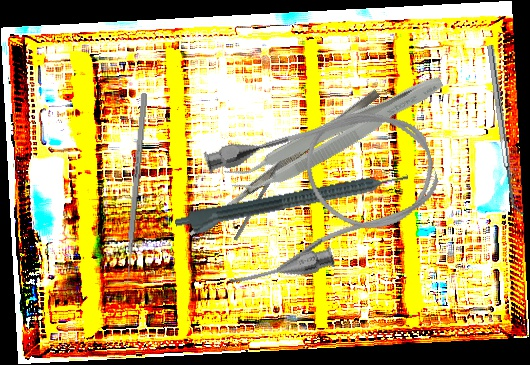Cannula: (191, 88, 454, 298)
Handpiece: (173, 168, 412, 241)
Pusher: (233, 130, 300, 242), (123, 93, 148, 290)
Spatula Surgical: (185, 87, 382, 240), (487, 43, 524, 218)
Tissue Forceps: (223, 59, 449, 206)
